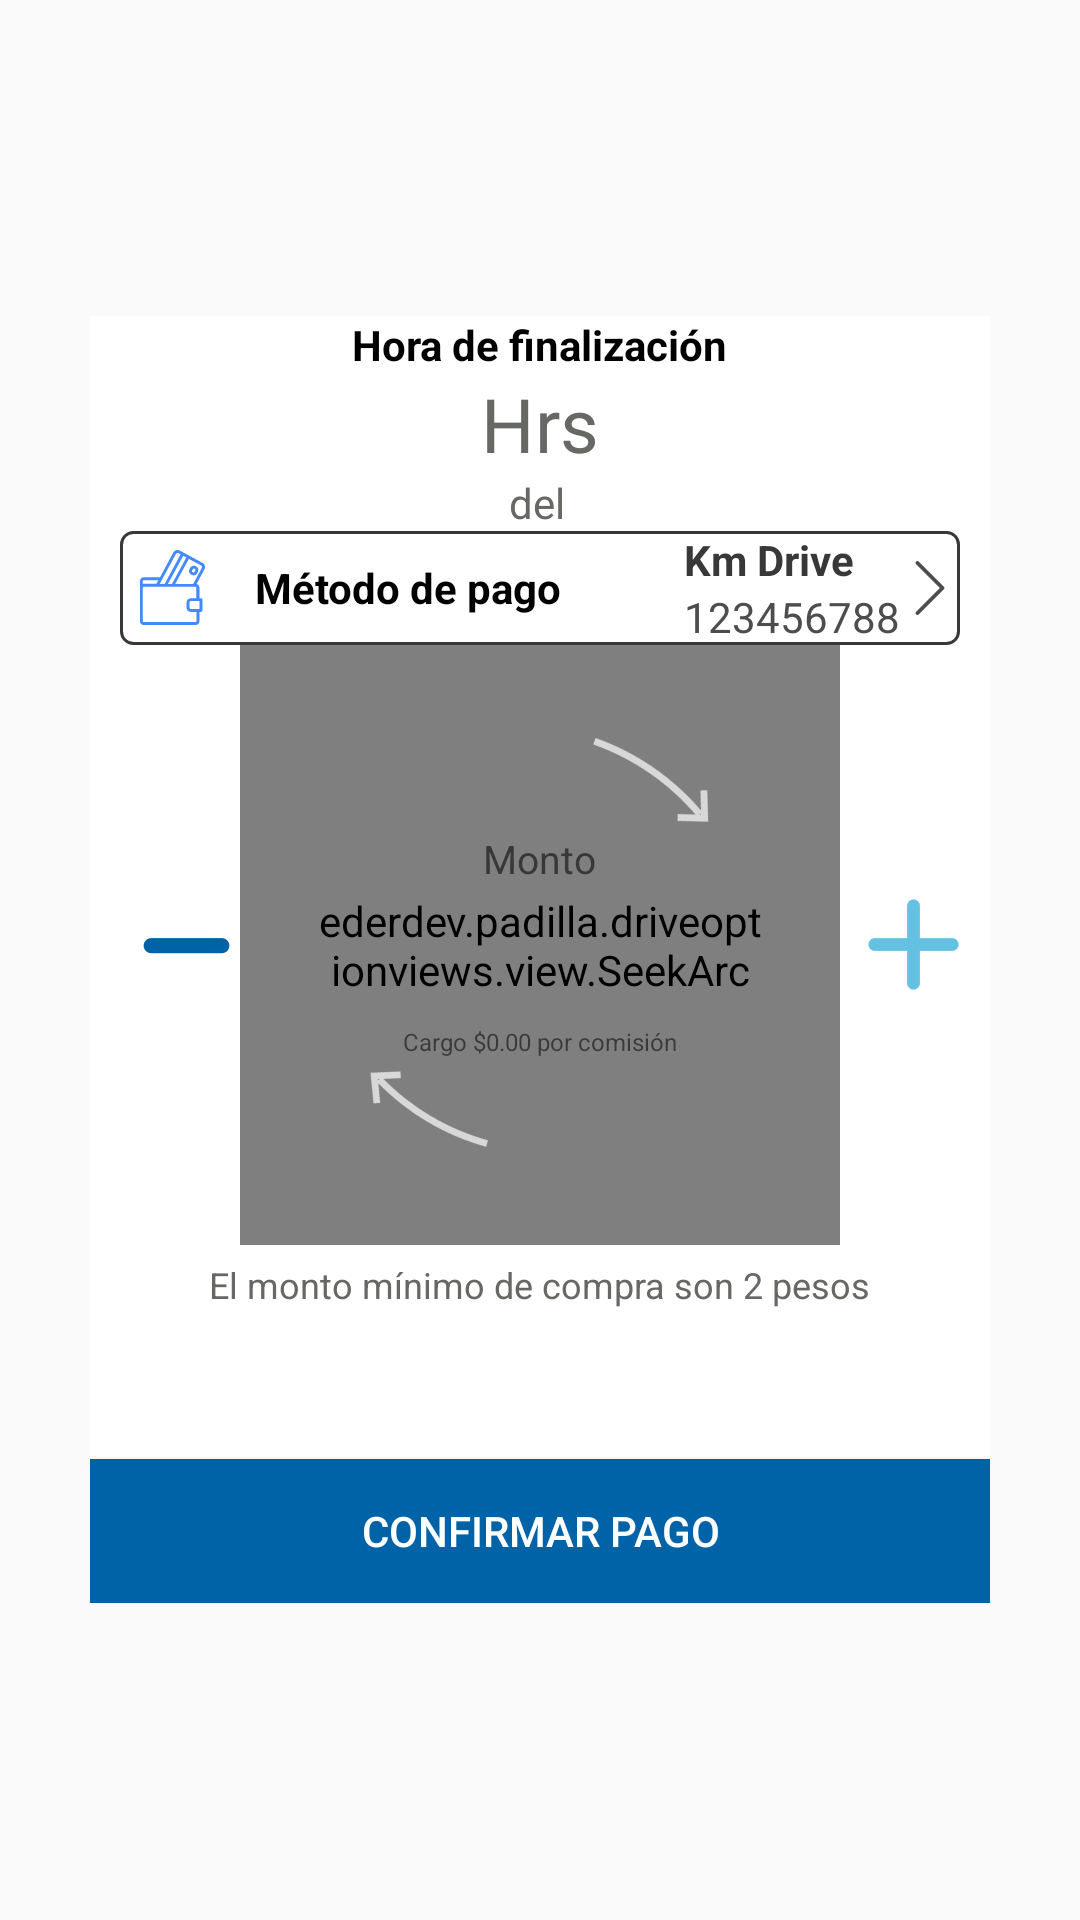

Where icons sit on this 1080w x 1920h app screen, as (x1, y1, x2, y2):
Agregar dinero: (868, 899, 959, 990)
Arrow to go: (915, 561, 945, 615)
